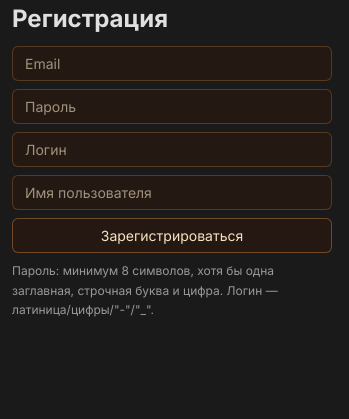
Test case: RegisterForm › should handle multiple validation errors
Type "invalid-email" into the field with placeholder "Email" at point(172, 64), box [12,46,332,81]
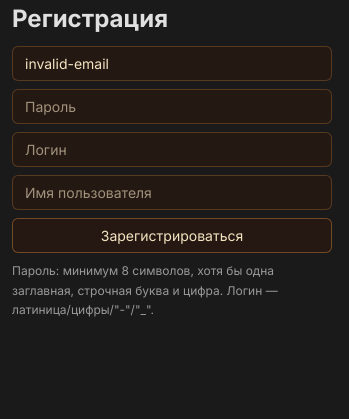
Type "weak" into the password field with placeholder "Пароль" at point(172, 107), box [12,89,332,124]
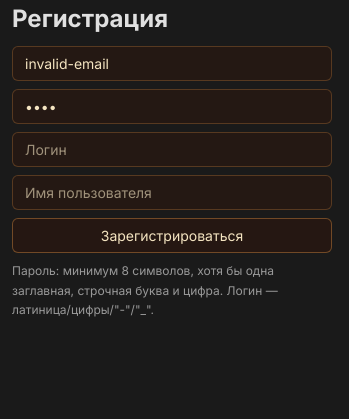
Submit the form with placeholder "Email"
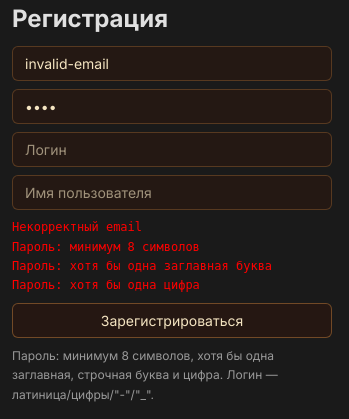
Expected: the text "Пароль: минимум 8 символов" is shown, [12,220,272,292]
